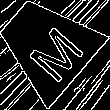M_NW: (13, 11, 80, 79)
